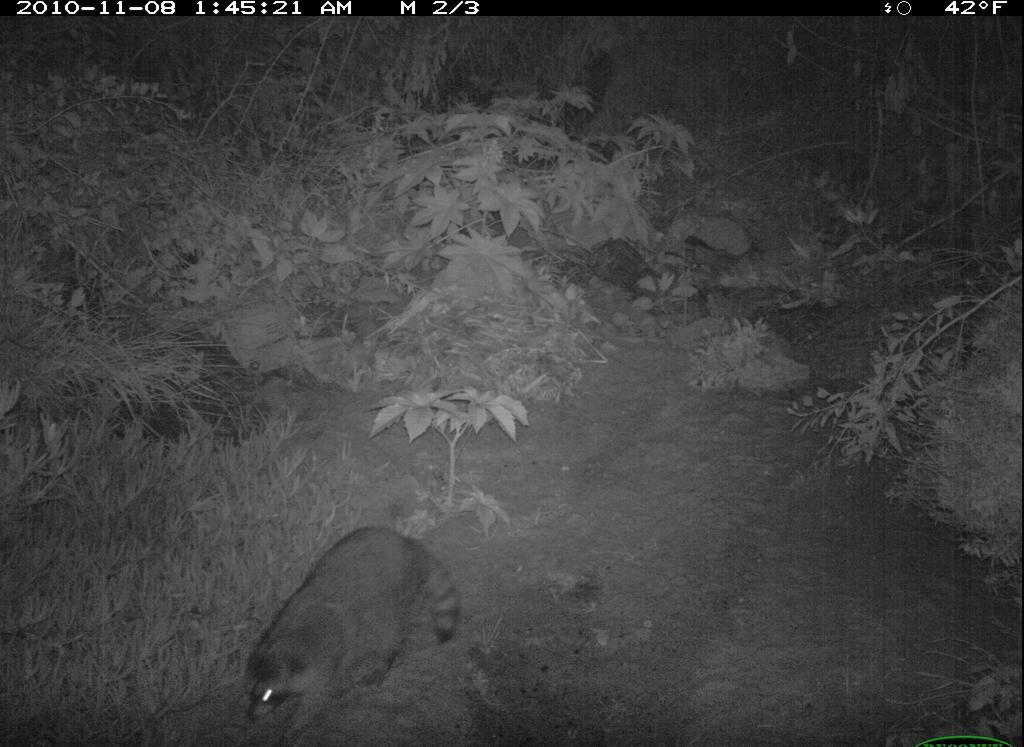raccoon: (222, 518, 533, 737)
